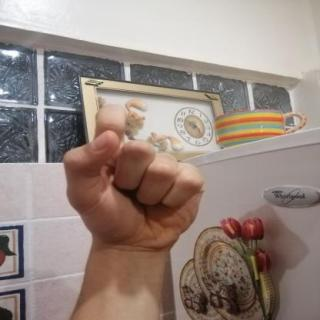FAA: (50, 95, 214, 257)
